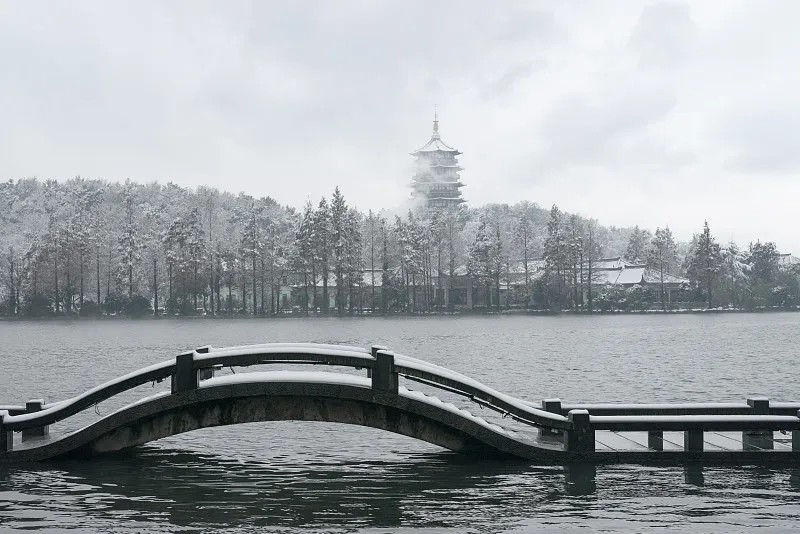Leifeng: (407, 107, 469, 222)
